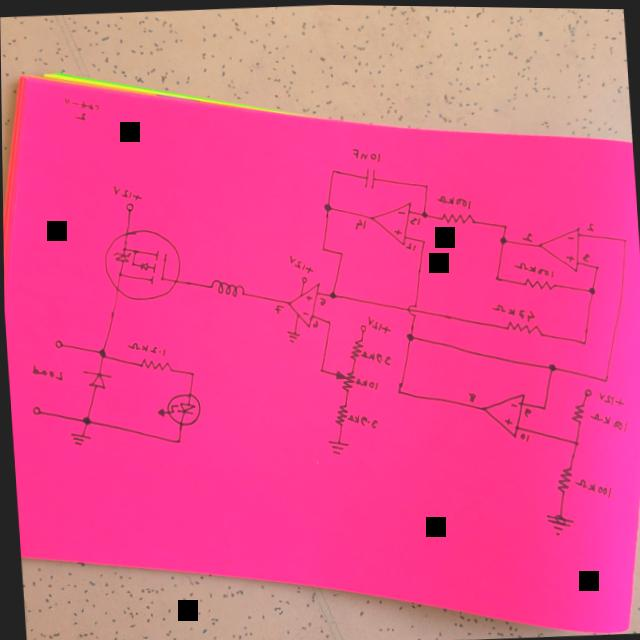capacitor: (360, 163, 377, 190)
crossover: (405, 301, 417, 315)
diode: (152, 388, 203, 426), (79, 364, 113, 390)
ground: (541, 508, 574, 535), (325, 436, 350, 455), (67, 430, 92, 447), (284, 327, 300, 342)
inductor: (208, 275, 244, 298)
junction: (78, 412, 91, 426), (95, 345, 108, 358), (545, 359, 557, 371), (585, 282, 597, 293), (569, 435, 581, 446), (497, 232, 508, 243), (403, 329, 414, 340), (537, 399, 548, 410), (418, 207, 429, 218), (590, 259, 601, 270), (322, 200, 332, 210), (326, 288, 336, 298), (491, 271, 500, 280), (600, 373, 609, 382), (394, 384, 403, 393), (499, 220, 509, 228), (173, 435, 182, 443), (317, 365, 325, 373), (579, 336, 587, 344), (187, 368, 195, 376), (422, 180, 430, 188), (620, 233, 628, 241), (329, 165, 337, 173), (419, 235, 427, 243), (325, 317, 332, 324), (337, 248, 343, 255), (319, 243, 325, 250)
resistor: (504, 316, 542, 336), (136, 354, 173, 373), (437, 207, 475, 225), (552, 462, 573, 493), (332, 366, 356, 392), (521, 273, 556, 290), (346, 336, 367, 359), (331, 401, 348, 425), (567, 400, 584, 422)
terminal: (28, 403, 43, 416), (52, 337, 65, 349), (122, 200, 135, 212), (356, 321, 366, 331), (581, 385, 591, 394), (299, 274, 307, 282)
text: (572, 473, 612, 498), (489, 299, 534, 321), (587, 407, 626, 432), (511, 257, 553, 277), (28, 360, 64, 383), (124, 337, 167, 356), (287, 251, 315, 277), (435, 190, 473, 208), (359, 345, 391, 366), (349, 144, 382, 164), (110, 181, 142, 201), (346, 409, 378, 428), (364, 311, 391, 333), (595, 387, 624, 405), (352, 374, 377, 389), (351, 215, 367, 229), (519, 228, 534, 241), (407, 212, 421, 225), (464, 388, 477, 401), (583, 218, 596, 231), (271, 302, 284, 314), (579, 248, 592, 260), (517, 429, 529, 441), (404, 239, 416, 250), (521, 405, 532, 416), (316, 295, 327, 305), (310, 318, 318, 327)
transistor: (101, 222, 183, 303)
